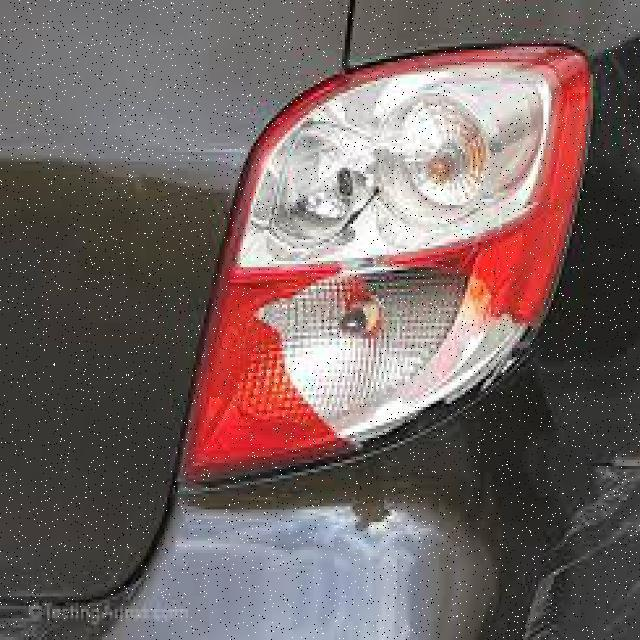car damage: (167, 31, 567, 472)
